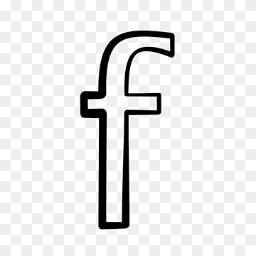f: (78, 20, 178, 236)
